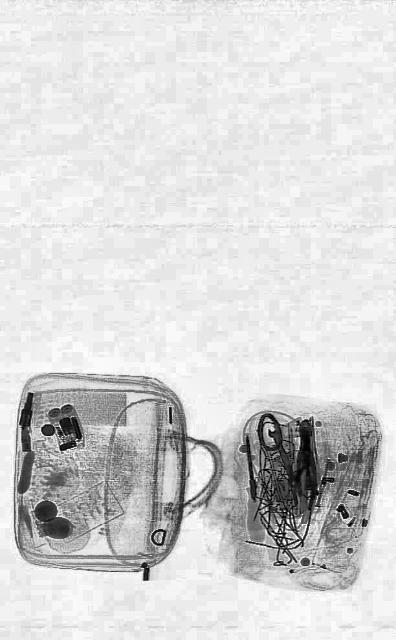Pliers: (292, 418, 316, 498)
Wrench: (265, 421, 299, 493)
